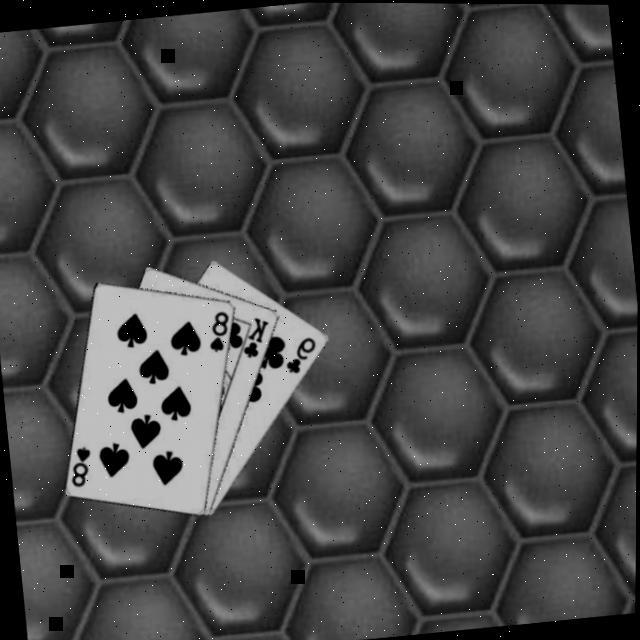8S: (64, 444, 98, 492), (202, 309, 234, 356)
9C: (280, 334, 322, 378)
KC: (230, 314, 274, 363)
